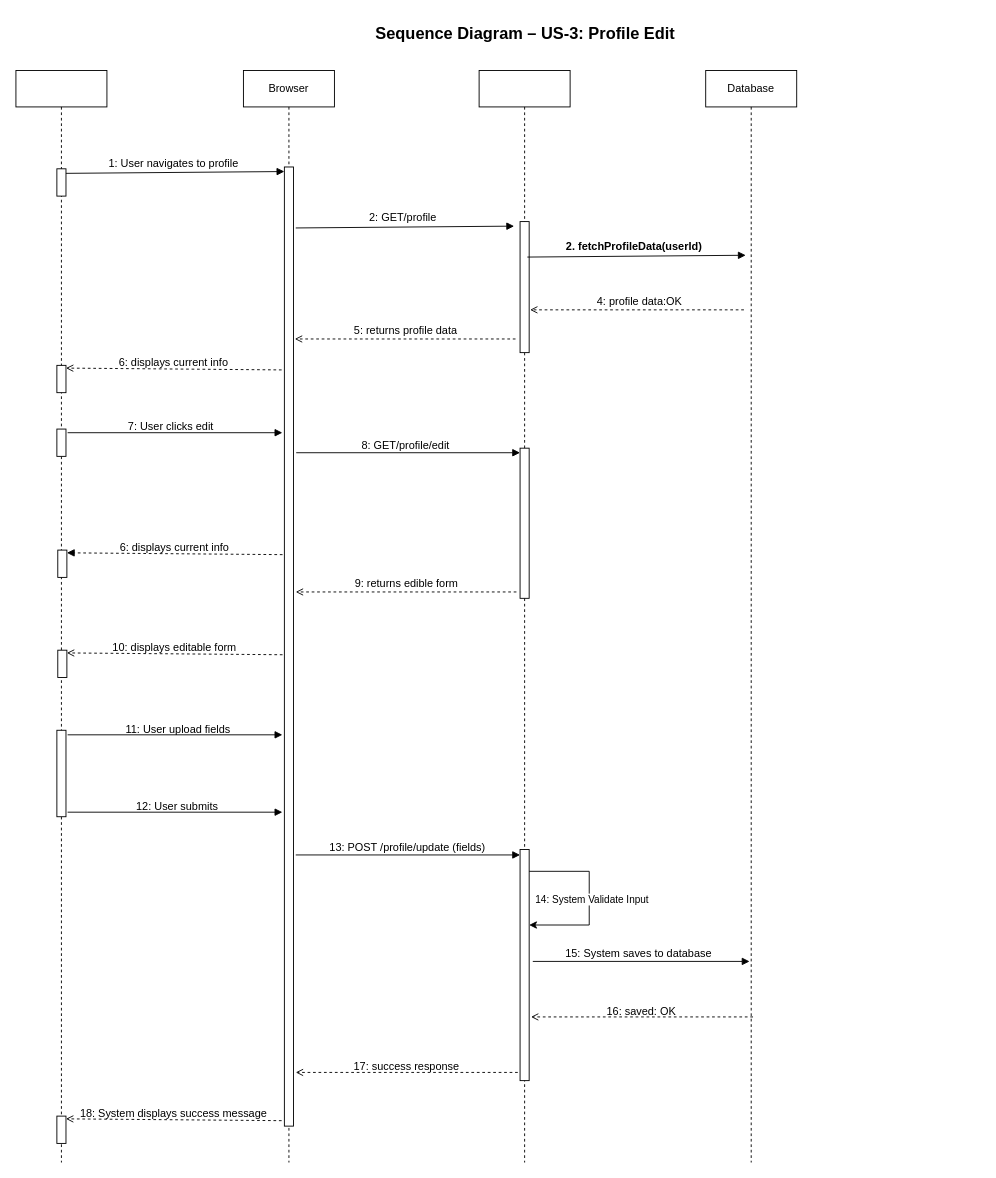
The diagram is 996 pixels wide and 1178 high, and some of its shapes have lost their labels. Here are the shapes that lost their labels. From the top down, the box of each, then its label:
(15, 70, 107, 1163): User
(478, 70, 570, 1163): Profile Controller
